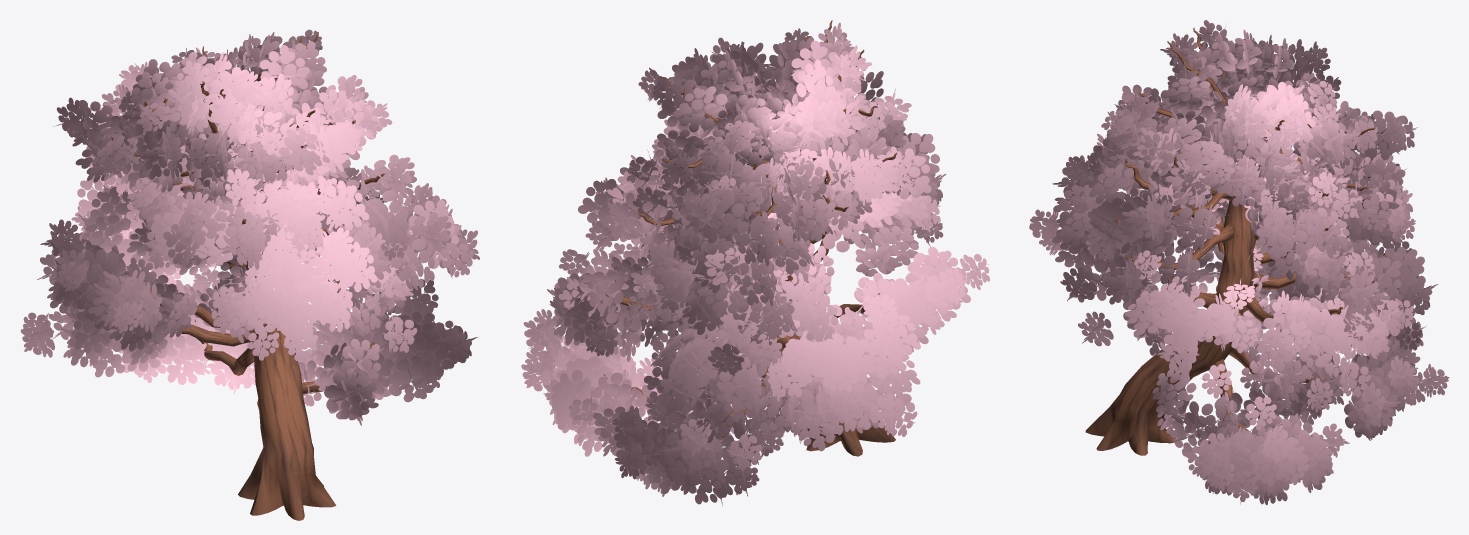
The model's file is nkcherry4.glb.
The picture shows the model from 3 angles, left to right: view 1: azimuth 30°, elevation 25°; view 2: azimuth 150°, elevation 25°; view 3: azimuth 270°, elevation 25°; orthographic projection. The views are drawn at different scales.
Visible parts, largest first — view 1: CherryBlossom_4; view 2: CherryBlossom_4; view 3: CherryBlossom_4.
Boxes of the visible parts, <box> form: CherryBlossom_4: <box>20,29,479,520</box>; CherryBlossom_4: <box>521,20,989,505</box>; CherryBlossom_4: <box>1029,20,1449,505</box>.
Bounding box in the file's own units: 13.34 × 13.37 × 12.54.
2 materials, 2 textured.
